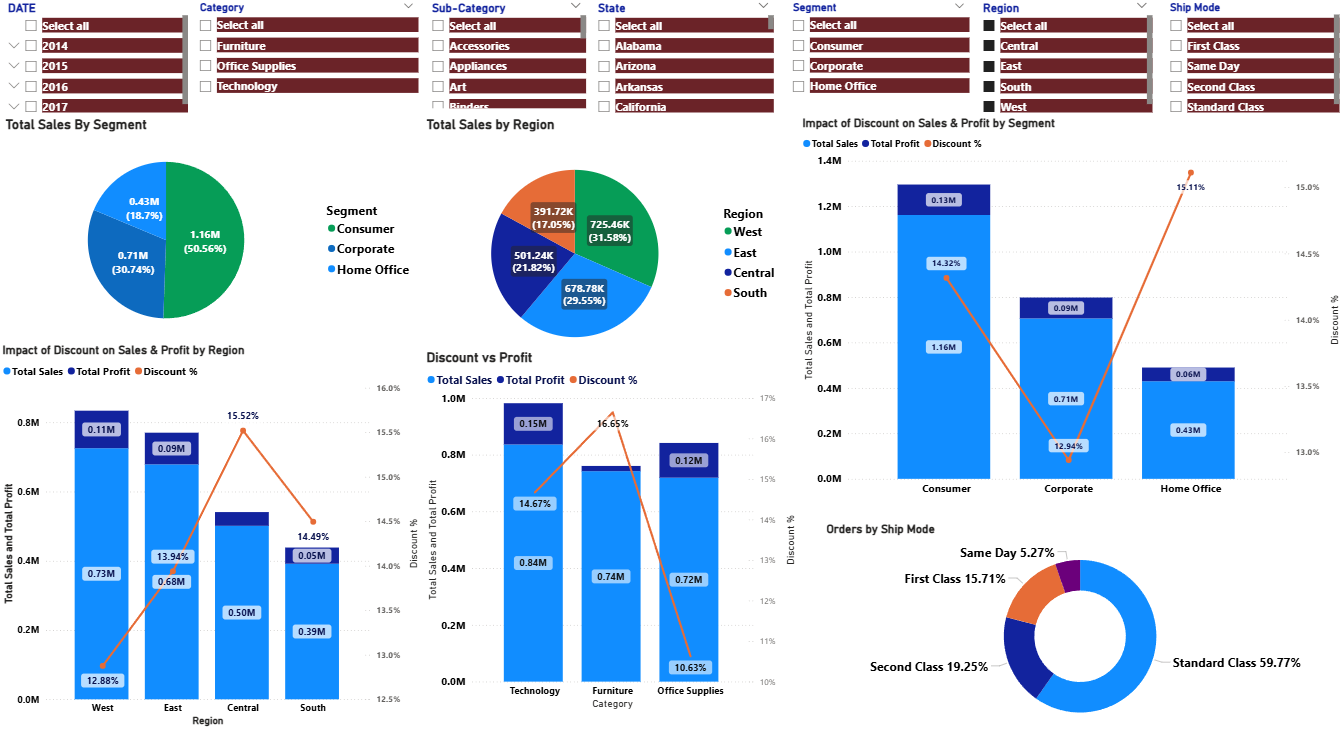

Layout of this report page (visuals, bound fields, positions):
{"tool":"powerbi","page":{"name":"Customer & Operational Insights","canvas":[1920,1500],"ordinal":1},"visuals":[{"type":"slicer","fields":{"Values":["Orders.Year Hierarchy.Year","Orders.Year Hierarchy.Month Name","Orders.Year Hierarchy.Month Number"]},"box":[0,0,275.1,169.9],"z":0},{"type":"slicer","fields":{"Values":["Orders.Category"]},"box":[273.9,0,330.2,163.9],"z":1000},{"type":"slicer","fields":{"Values":["Orders.Sub-Category"]},"box":[605.3,0,238.1,163.9],"z":2000},{"type":"slicer","fields":{"Values":["Orders.State"]},"box":[843.4,0,269.2,169.9],"z":3000},{"type":"slicer","fields":{"Values":["Orders.Segment"]},"box":[1122.1,0,270.4,169.9],"z":4000},{"type":"slicer","fields":{"Values":["Orders.Region"]},"box":[1392.4,0,259.6,169.9],"z":5000},{"type":"pieChart","fields":{"Category":["Orders.Region"],"Y":["Orders.Total Sales"]},"box":[605.3,169.9,516.8,370.8],"z":6000},{"type":"pieChart","title":"Total Sales By Segment ","fields":{"Category":["Orders.Segment"],"Y":["Orders.Total Sales"]},"box":[4.8,169.9,595.7,332.6],"z":7000},{"type":"lineStackedColumnComboChart","title":"Impact of Discount on Sales & Profit by Segment","fields":{"Category":["Orders.Segment"],"Y":["Orders.Total Sales","Orders.Total Profit"],"Y2":["Orders.Discount %"]},"box":[1142.4,169.9,777.6,552.7],"z":8000},{"type":"lineStackedColumnComboChart","title":"Impact of Discount on Sales & Profit by Region","fields":{"Category":["Orders.Region"],"Y":["Orders.Total Sales","Orders.Total Profit"],"Y2":["Orders.Discount %"]},"box":[0,494.1,604.1,552.7],"z":9000},{"type":"lineStackedColumnComboChart","title":"Discount vs Profit","fields":{"Y":["Orders.Total Sales","Orders.Total Profit"],"Category":["Orders.Category"],"Y2":["Orders.Discount %"]},"box":[605.3,502.4,537.1,519.2],"z":10000},{"type":"donutChart","title":"Orders by Ship Mode","fields":{"Category":["Orders.Ship Mode"],"Y":["Orders.Total Orders"]},"box":[1177.1,750.1,734.5,307.4],"z":11000},{"type":"columnChart","title":"Profitability Analysis by Ship Mode","fields":{"Category":["Orders.Ship Mode"],"Y":["Orders.Profit Margin %"]},"box":[0,1056.3,574.2,443.8],"z":12000},{"type":"lineChart","title":"Sales Trend By Ship Mode","fields":{"Category":["Orders.Year Hierarchy.Year","Orders.Year Hierarchy.Month Name"],"Y":["Orders.Total Sales"],"Series":["Orders.Ship Mode"]},"box":[585,1057.5,746.5,433],"z":13000},{"type":"columnChart","title":"Average Delivery Days","fields":{"Category":["Orders.Ship Mode"],"Y":["Avg(Orders.Delivery Days)"]},"box":[1342.2,1073,577.8,416.3],"z":14000},{"type":"slicer","fields":{"Values":["Orders.Ship Mode"]},"box":[1660.4,0,259.6,169.9],"z":15000}]}

Visuals, with their boxes on the page's 1920x1500 design canvas (x1, y1, x2, y2). These are canvas units, not pixel positions in the 1343x730 screenshot, which may show the page scaled, cropped or inside an application window:
slicer - Orders.Year Hierarchy.Year x Orders.Year Hierarchy.Month Name: [x1=0, y1=0, x2=275, y2=170]
slicer - Orders.Category: [x1=274, y1=0, x2=604, y2=164]
slicer - Orders.Sub-Category: [x1=605, y1=0, x2=843, y2=164]
slicer - Orders.State: [x1=843, y1=0, x2=1113, y2=170]
slicer - Orders.Segment: [x1=1122, y1=0, x2=1392, y2=170]
slicer - Orders.Region: [x1=1392, y1=0, x2=1652, y2=170]
pieChart - Orders.Region x Orders.Total Sales: [x1=605, y1=170, x2=1122, y2=541]
"Total Sales By Segment " pieChart: [x1=5, y1=170, x2=600, y2=502]
"Impact of Discount on Sales & Profit by Segment" lineStackedColumnComboChart: [x1=1142, y1=170, x2=1920, y2=723]
"Impact of Discount on Sales & Profit by Region" lineStackedColumnComboChart: [x1=0, y1=494, x2=604, y2=1047]
"Discount vs Profit" lineStackedColumnComboChart: [x1=605, y1=502, x2=1142, y2=1022]
"Orders by Ship Mode" donutChart: [x1=1177, y1=750, x2=1912, y2=1058]
"Profitability Analysis by Ship Mode" columnChart: [x1=0, y1=1056, x2=574, y2=1500]
"Sales Trend By Ship Mode" lineChart: [x1=585, y1=1058, x2=1332, y2=1490]
"Average Delivery Days" columnChart: [x1=1342, y1=1073, x2=1920, y2=1489]
slicer - Orders.Ship Mode: [x1=1660, y1=0, x2=1920, y2=170]
